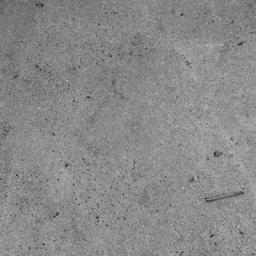FOD: (202, 190, 247, 204)
